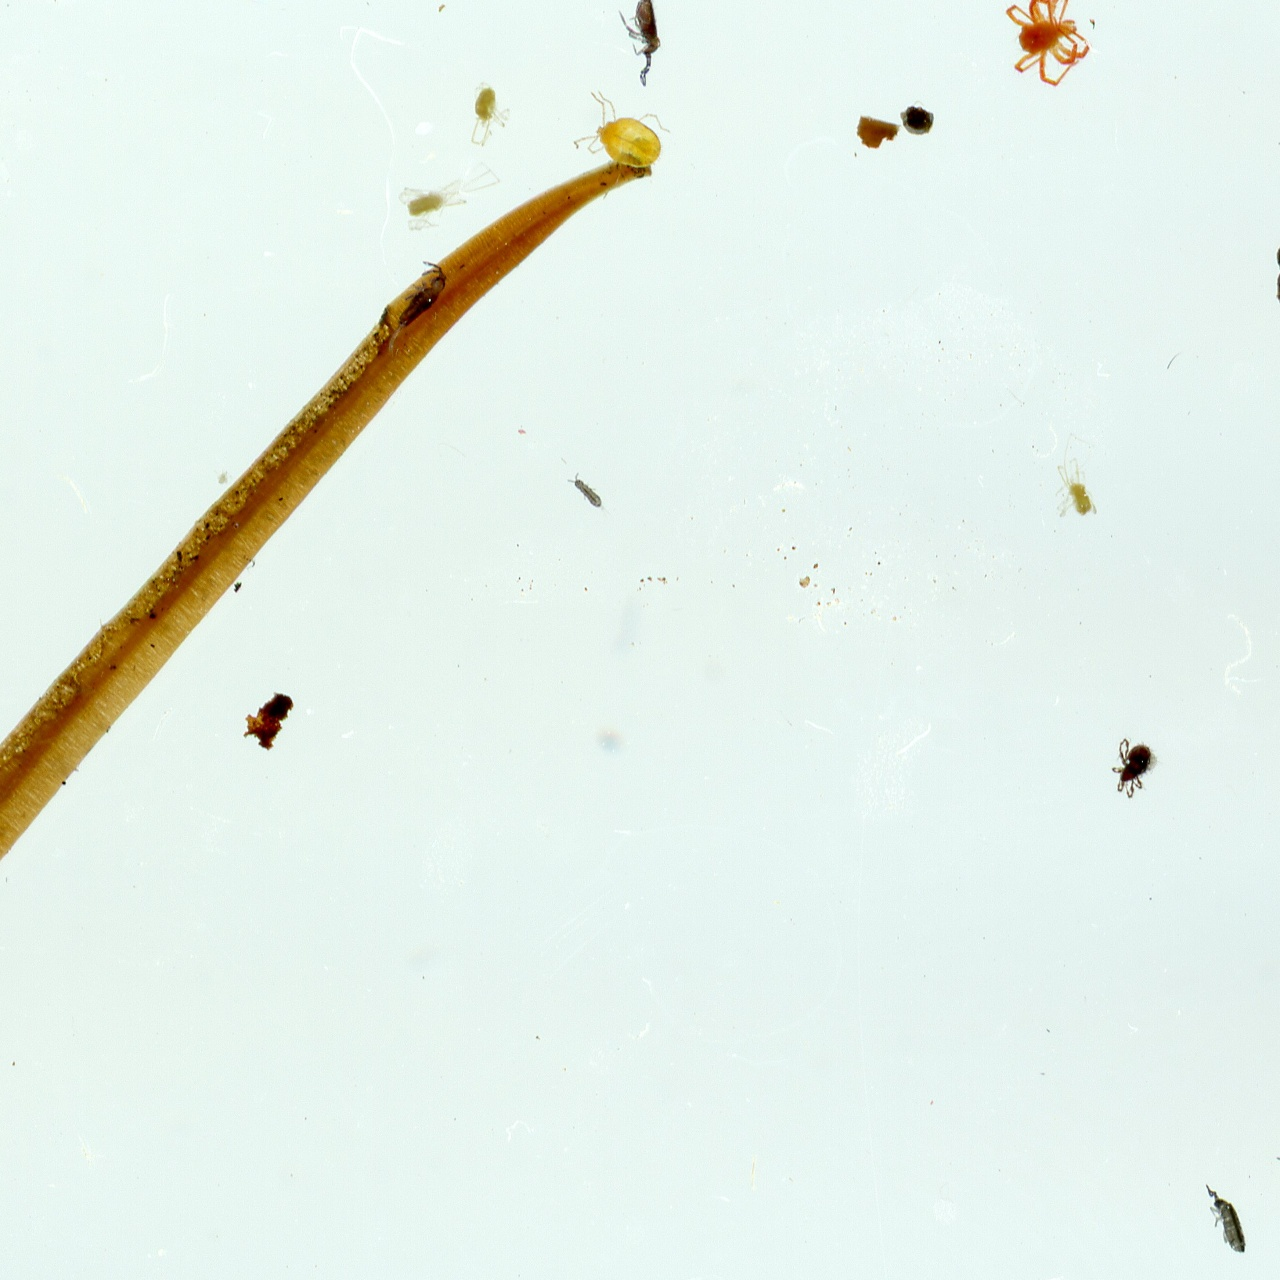arthropod: (573, 89, 667, 200), (996, 0, 1096, 94), (397, 161, 503, 233), (618, 0, 662, 89), (1054, 434, 1098, 519), (1203, 1182, 1251, 1259), (468, 81, 517, 149), (1111, 737, 1162, 801), (567, 471, 607, 513)
